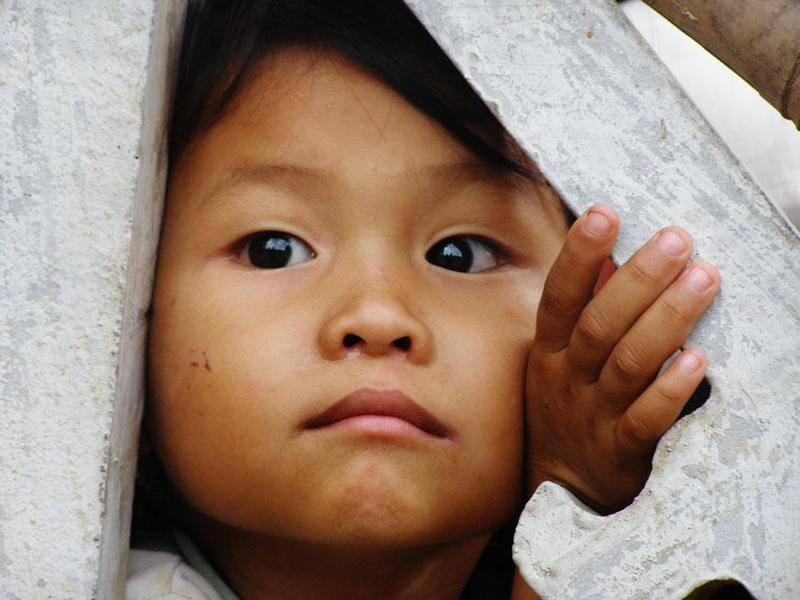person: (132, 8, 714, 600)
